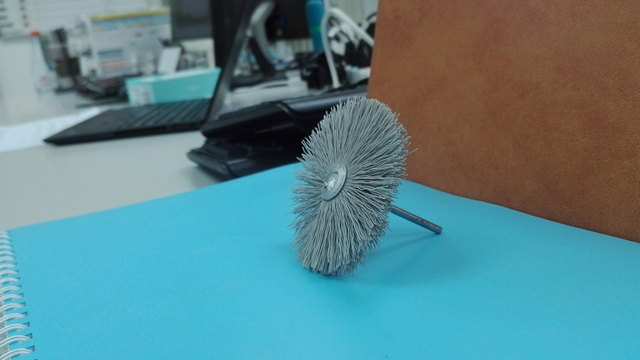TOOL: (227, 86, 484, 305), (276, 79, 440, 309), (261, 90, 391, 265)
